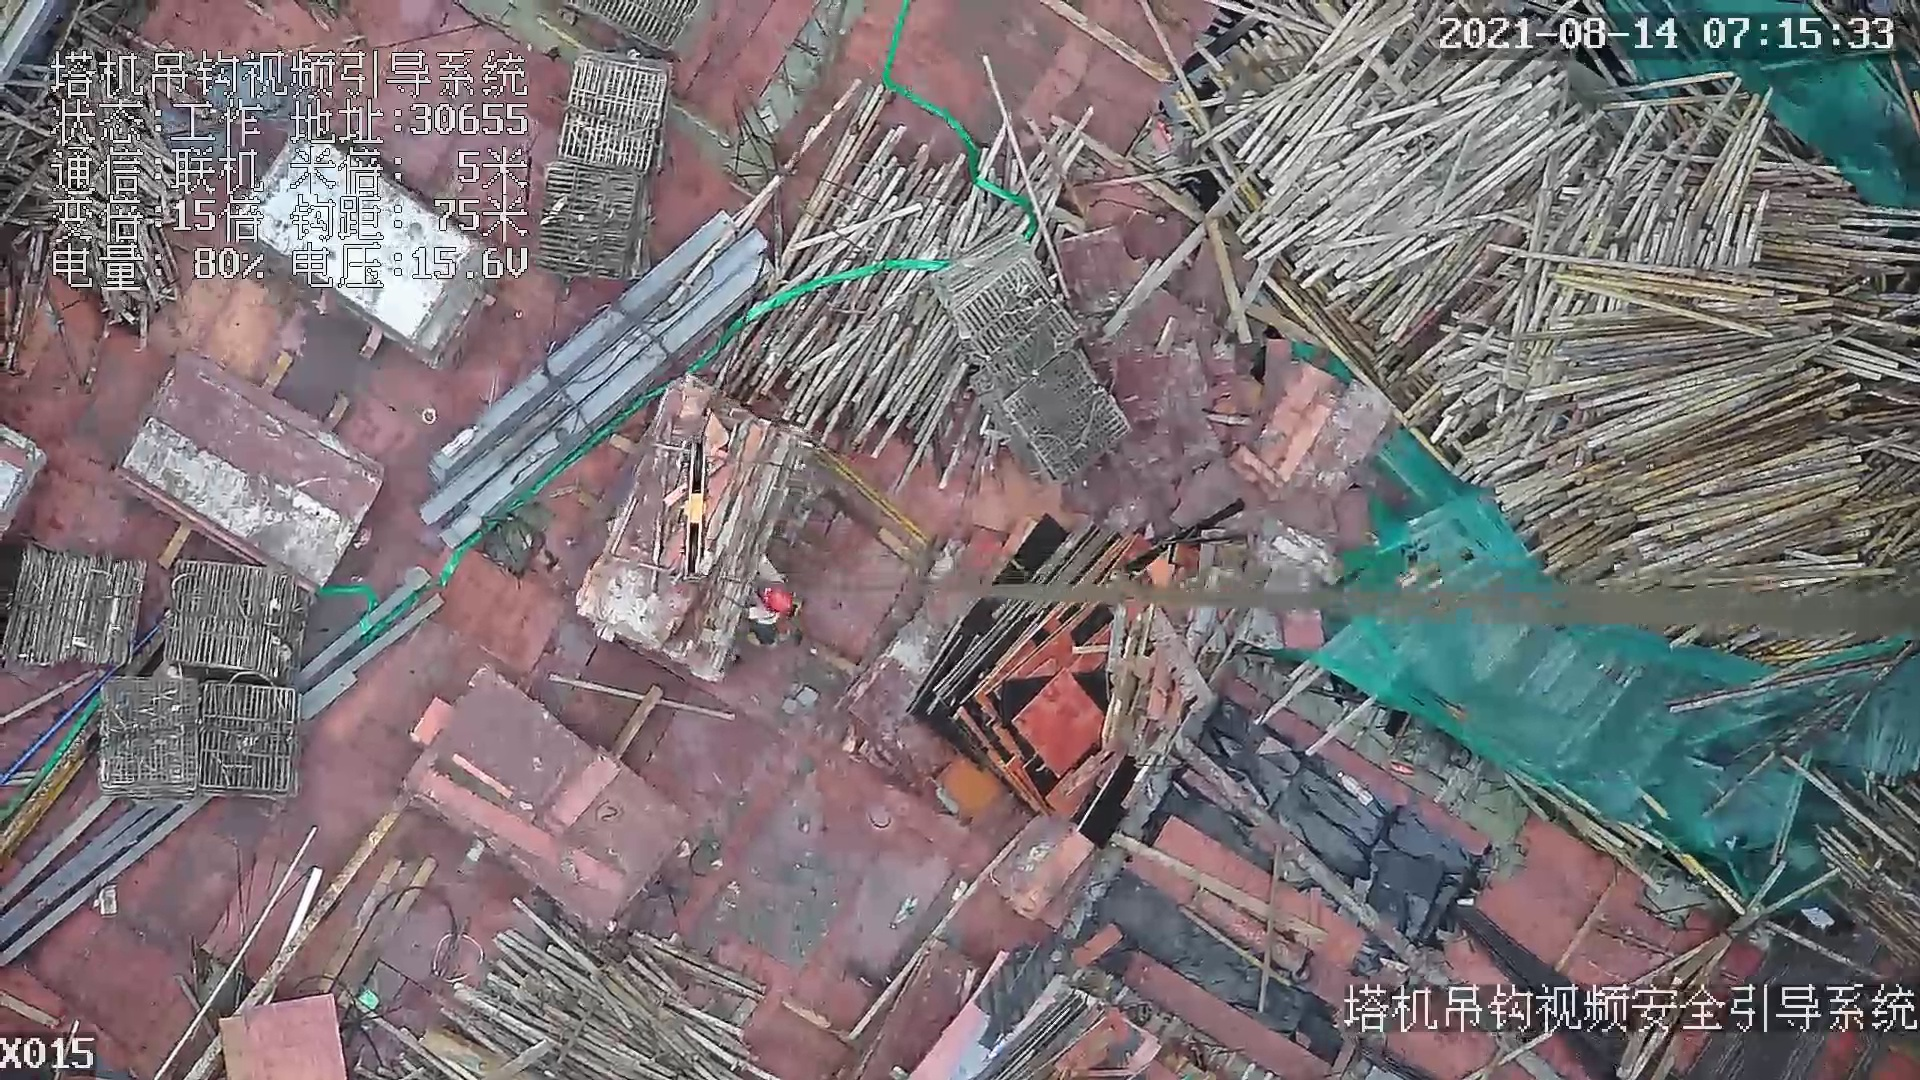helmet: (769, 585, 793, 619)
hook: (677, 437, 712, 589)
person: (744, 563, 791, 640)
